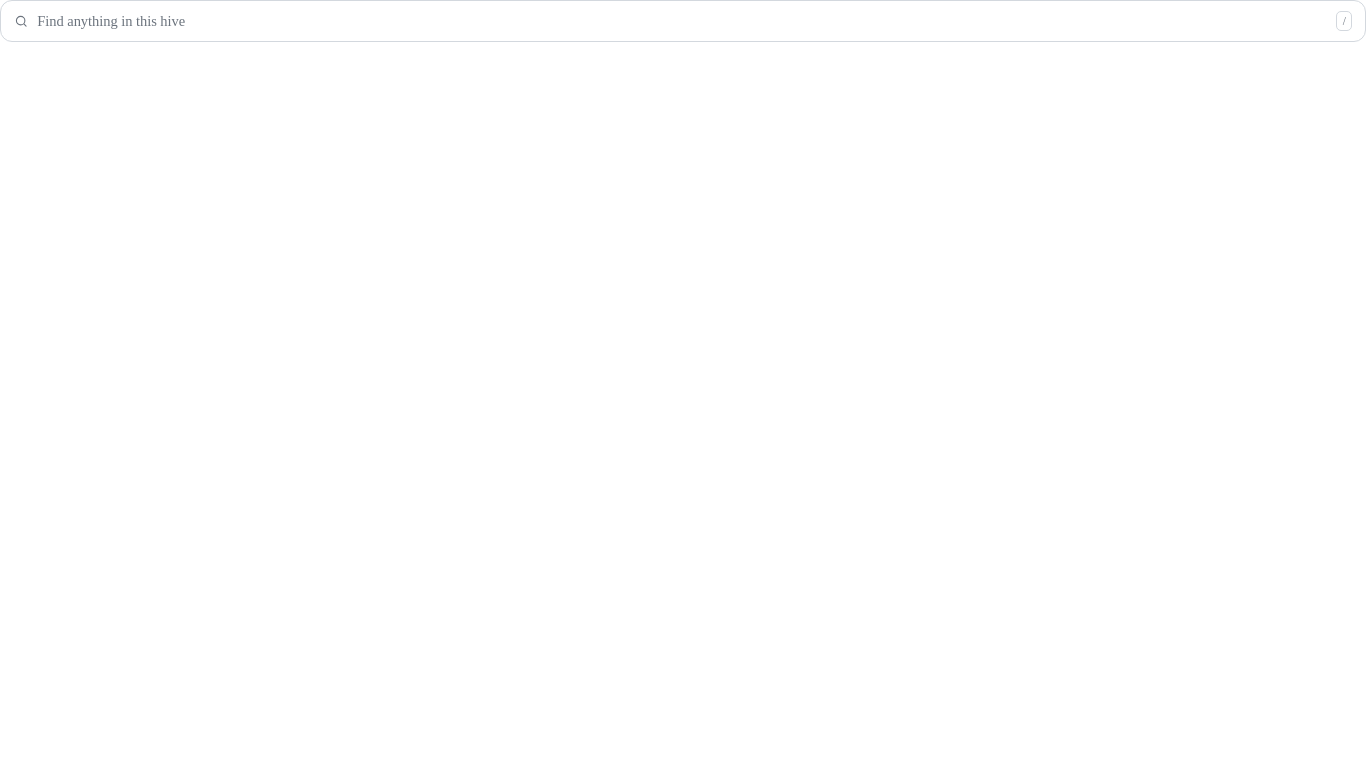
Test: HiveOmni (find only) › posts the Ask row's text into the thread and opens the chat
Type "What is the premium?" into the dropdown at (682, 21), box [37,1,1327,41]
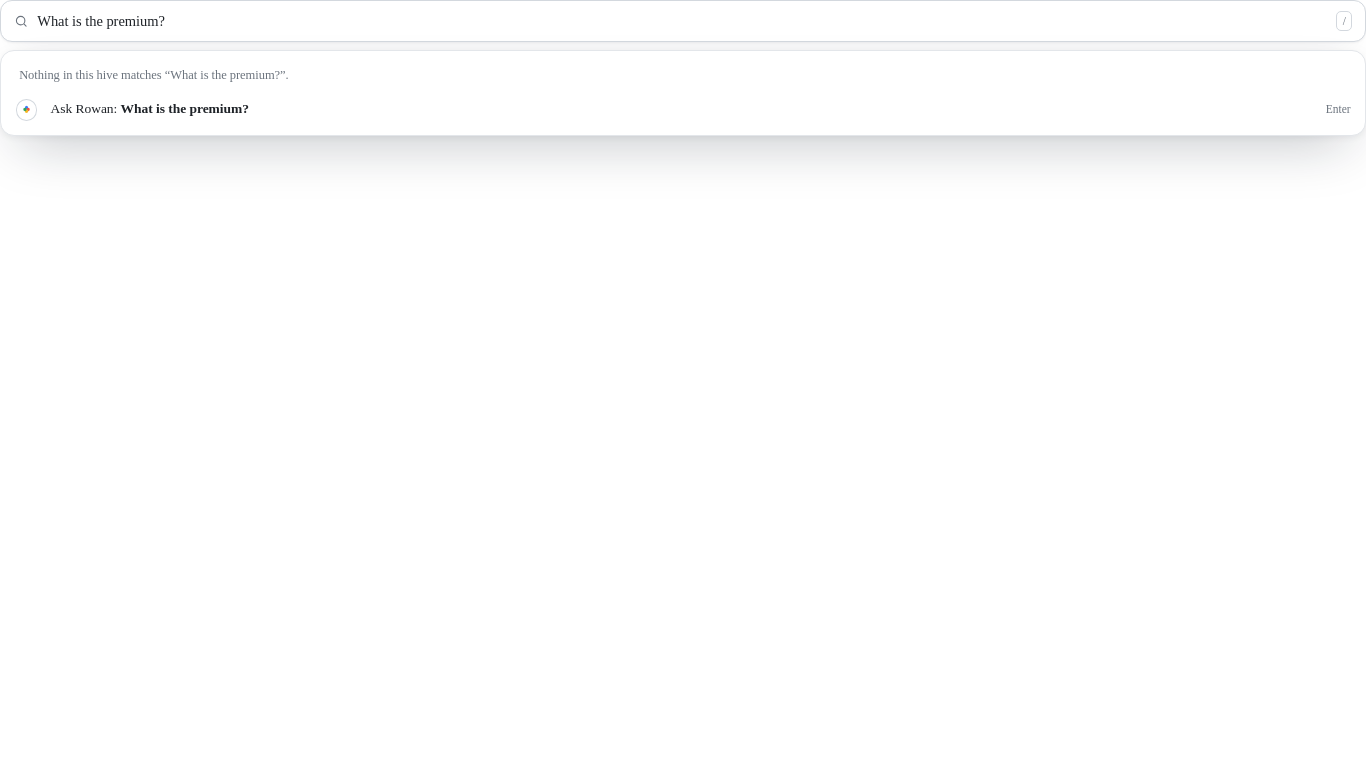
Click the option "Ask Rowan: What is the premium? Enter" at (95, 109), box [8,92,1358,128]
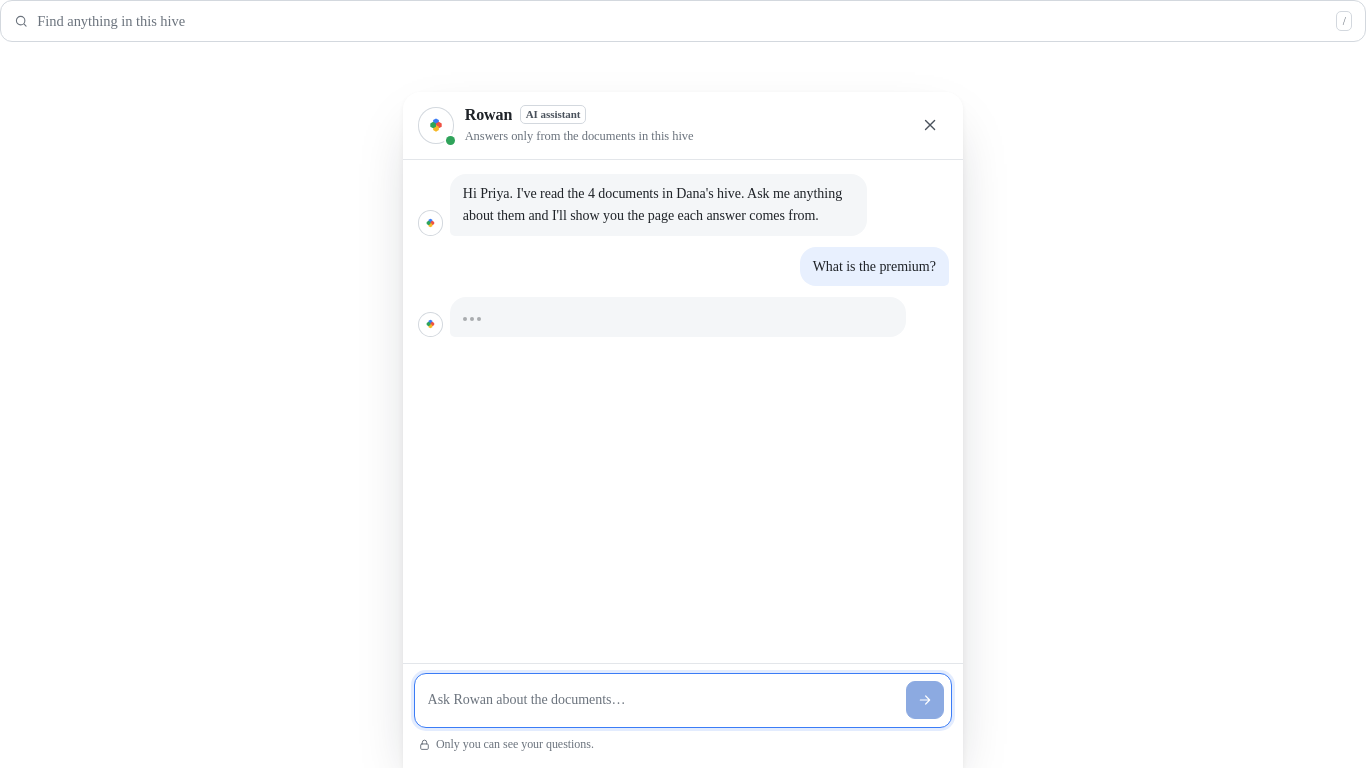
Expected: the dialog named "Ask Rowan" is shown, [403,92,963,767]
Expected: the element with test id "omni-pop" is gone
Expected: the dropdown is empty, [37,1,1327,41]
